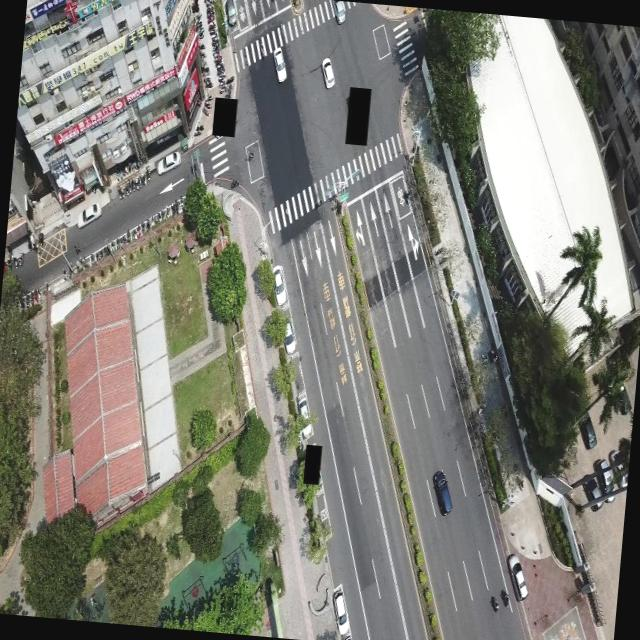bike: (488, 593, 501, 613)
car: (504, 550, 530, 600), (330, 584, 354, 638), (430, 468, 454, 514), (269, 263, 289, 306), (75, 200, 101, 230), (155, 147, 181, 176), (281, 317, 298, 355), (270, 48, 288, 83), (318, 55, 336, 88), (332, 0, 346, 24)
